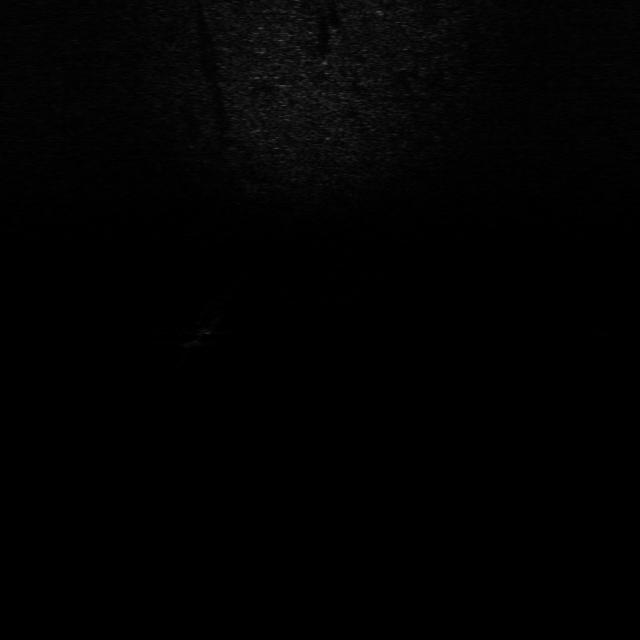human body: (168, 288, 234, 374)
